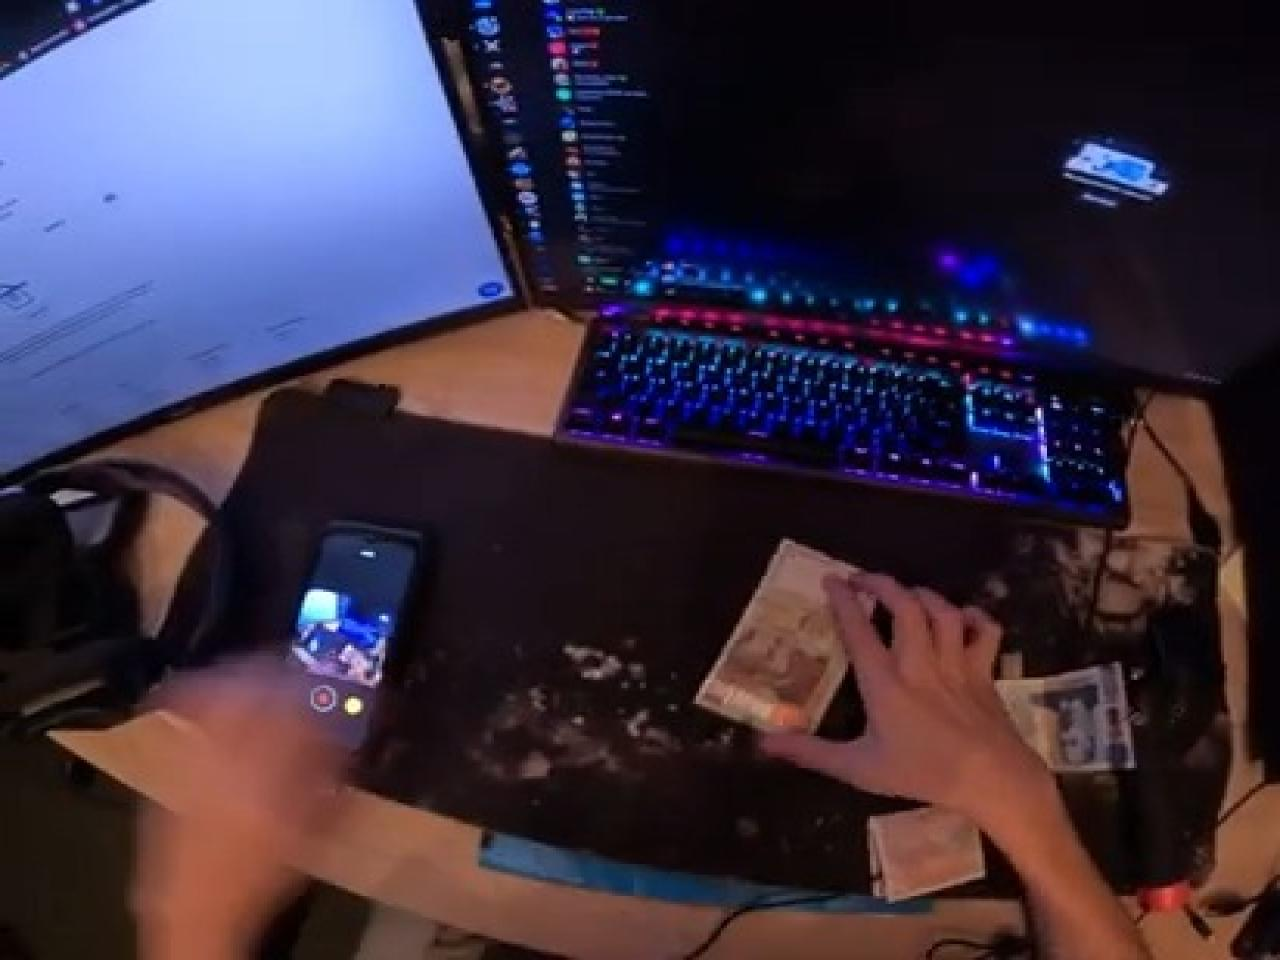50leva: (692, 542, 1134, 960)
